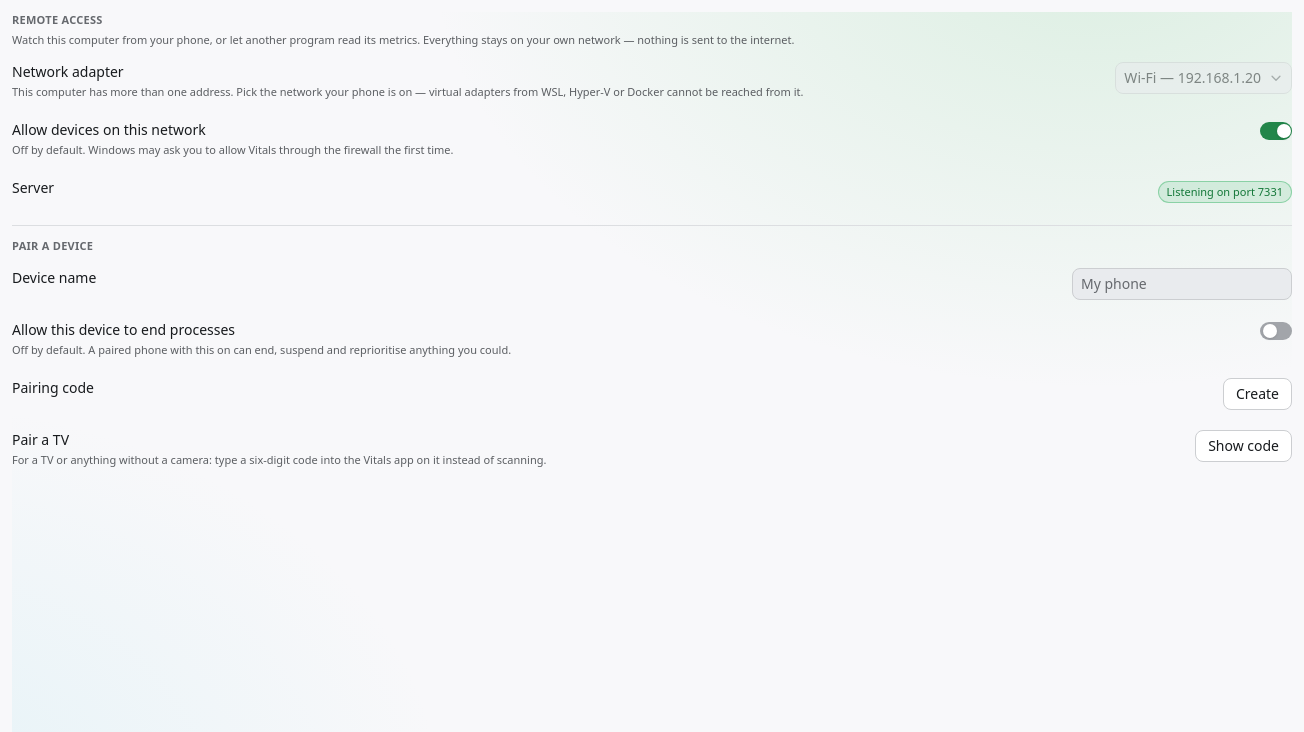
Test: RemoteAccessPanel › cancelling withdraws the code on the server and removes it from the screen
The image size is (1304, 732).
Click the button named "pair a tv": (1244, 446) x1=1195 y1=430 x2=1292 y2=462
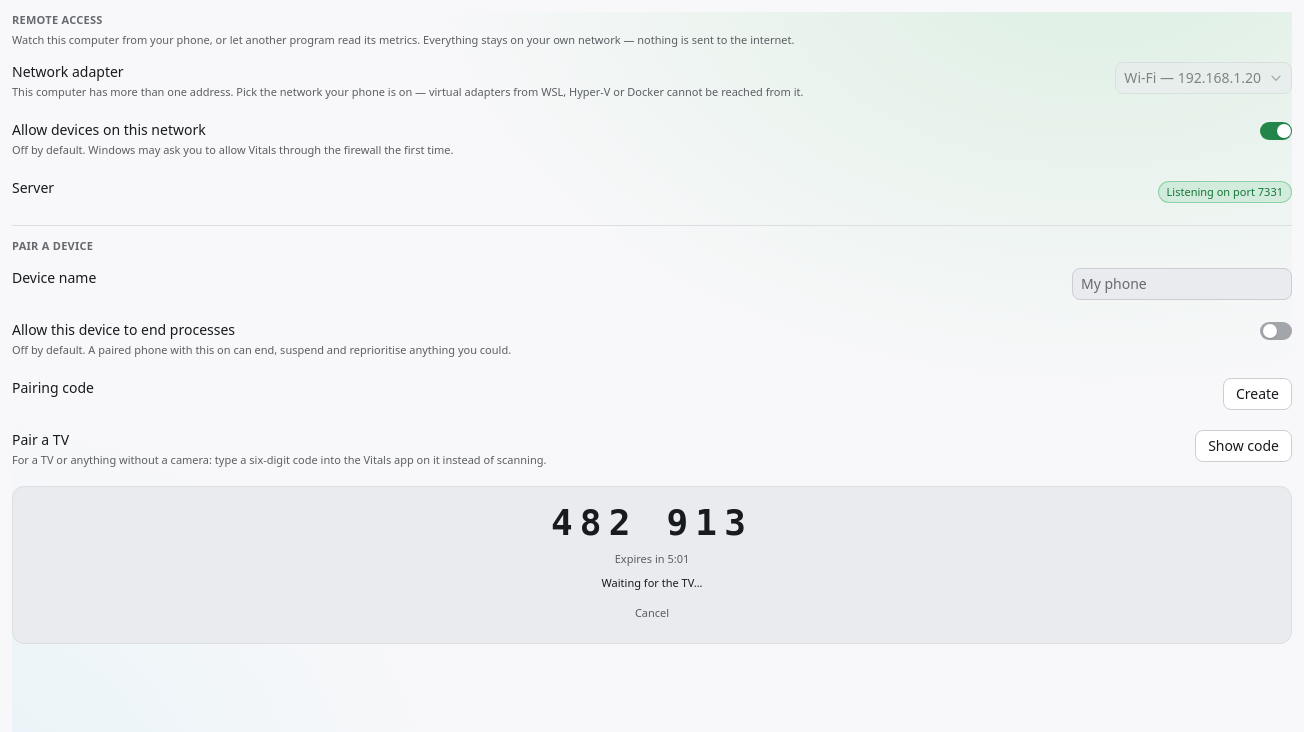
Now the text "482 913" is shown, box x1=551 y1=502 x2=753 y2=543
Click the button "Cancel": (652, 613) x1=625 y1=599 x2=679 y2=627
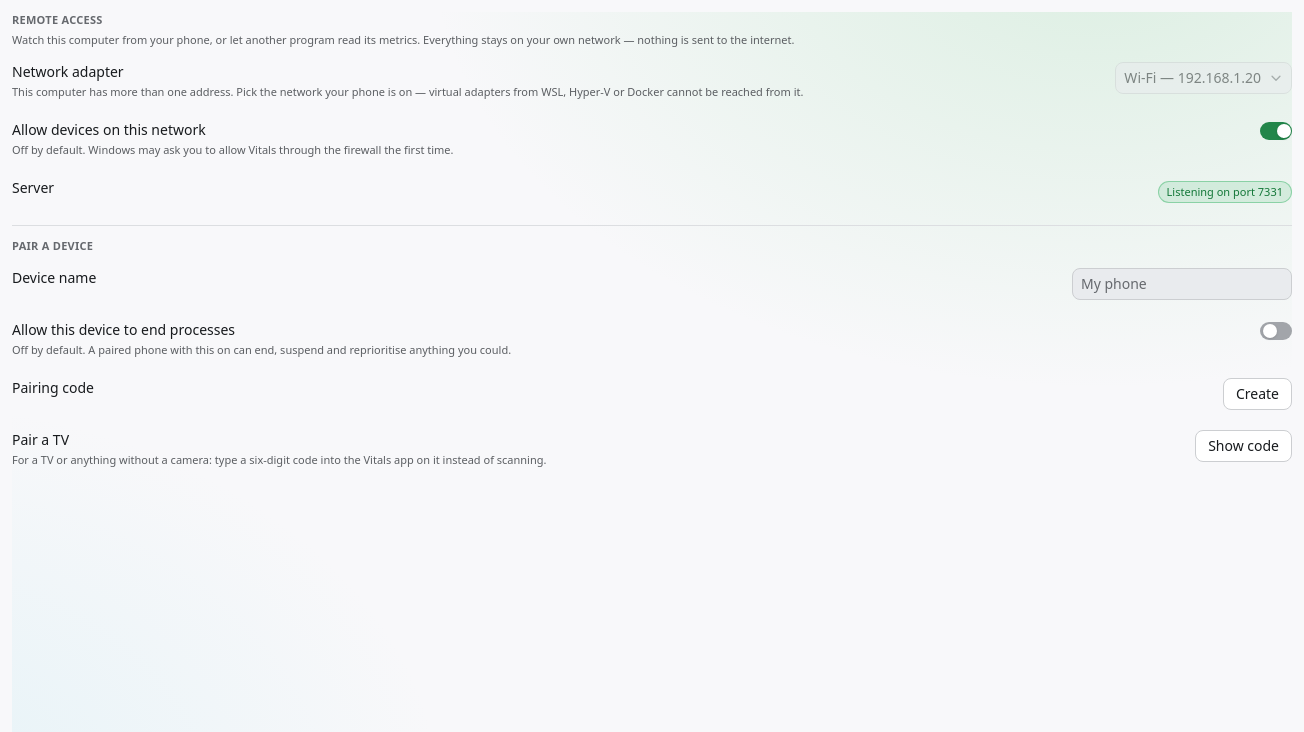
Now the text "482 913" is gone
